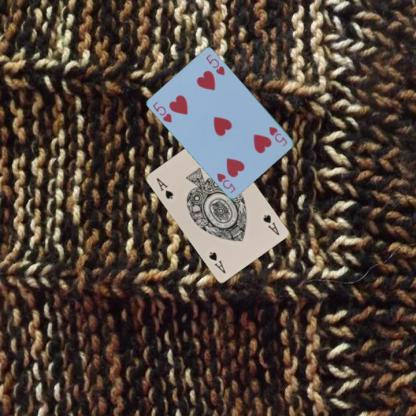5h: (150, 99, 174, 124), (266, 124, 289, 148)
As: (154, 175, 174, 201), (260, 212, 280, 236)
